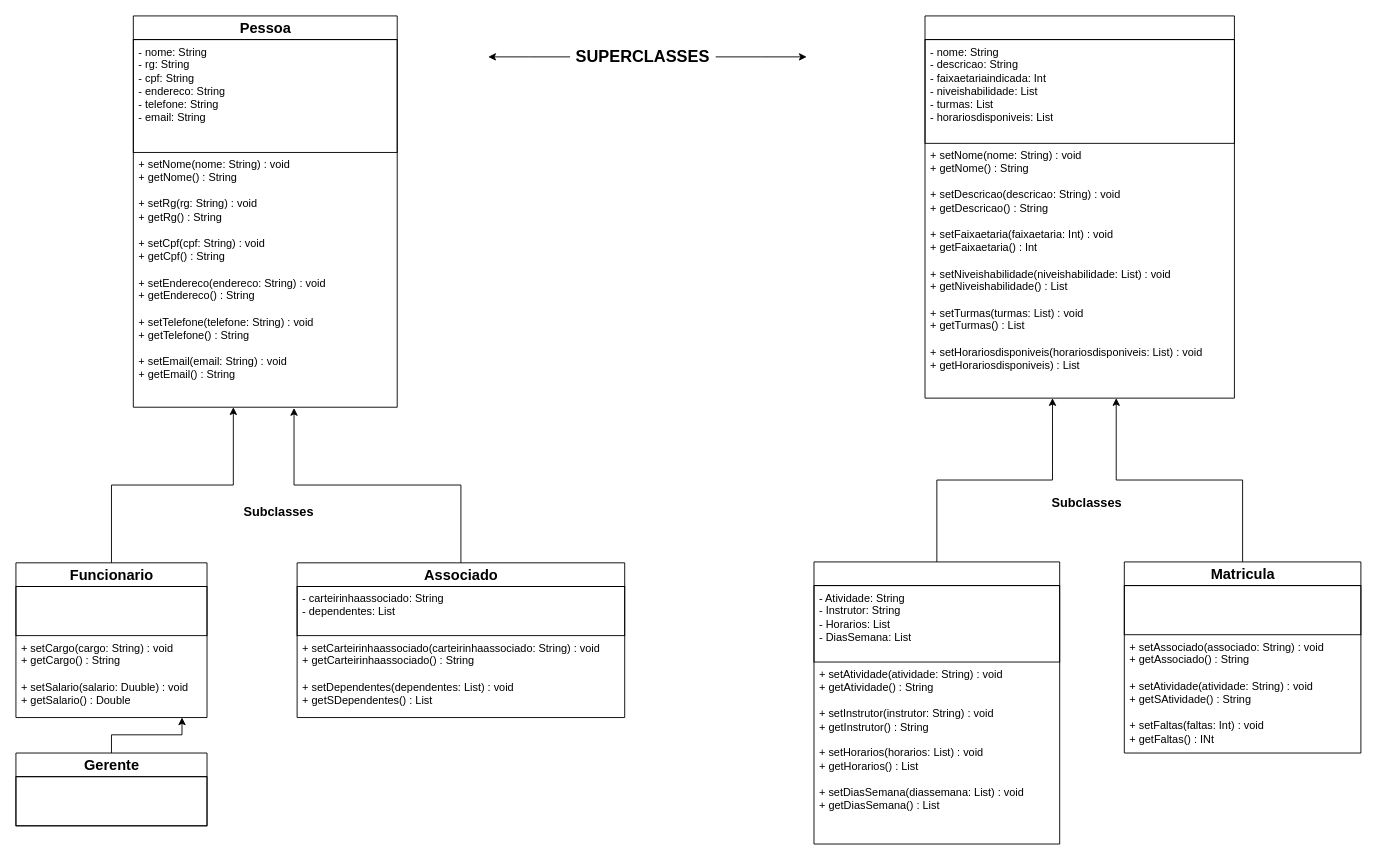
This 1377x863 diagram has some shape labels left out. Each missing label, with the box of its shape:
+ cadastrarFuncionario + definirPermissoes: (15, 776, 207, 826)
- Associado: String - Atividade: String - Faltas: Int: (1123, 585, 1361, 635)
- cargo: String - salario: Double: (15, 586, 207, 636)
Atividade: (924, 15, 1234, 398)
Turma: (813, 561, 1060, 844)
